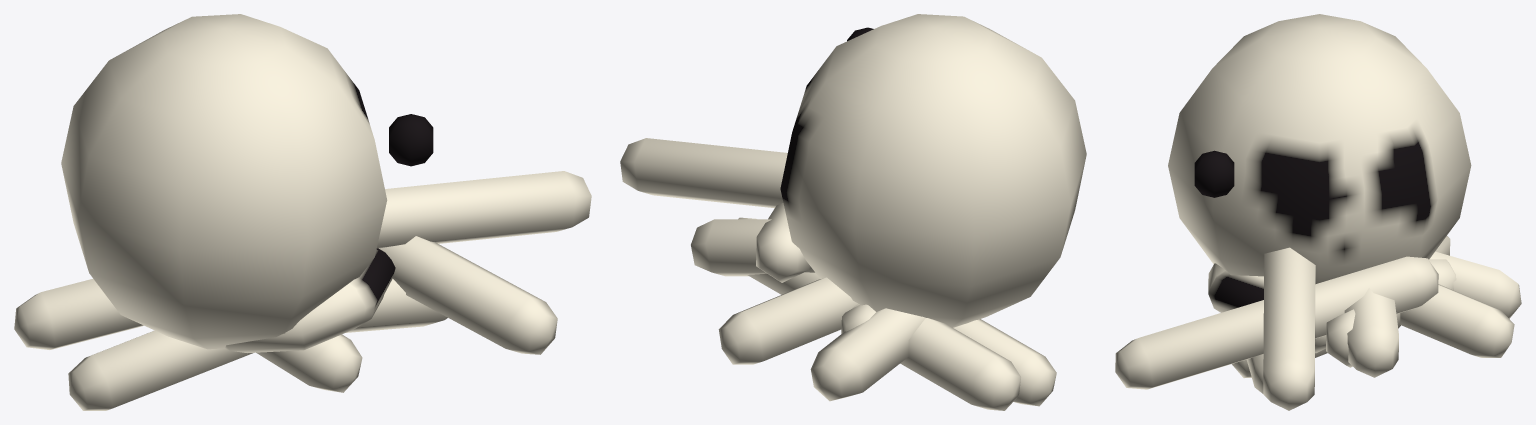
File: prop_bonepile2_c217.glb
3 views of the same model, side by side, from view 1: azimuth 30°, elevation 25°; view 2: azimuth 150°, elevation 25°; view 3: azimuth 270°, elevation 25° (orthographic). The views are drawn at different scales.
Parts seen in each view (by area): view 1: prop_bonepile2_c217; view 2: prop_bonepile2_c217; view 3: prop_bonepile2_c217.
Boxes of the visible parts, box(x1,y1,x2,y2) form: prop_bonepile2_c217: box(14, 14, 591, 410); prop_bonepile2_c217: box(620, 14, 1086, 410); prop_bonepile2_c217: box(1115, 14, 1521, 410).
Size of the model in its own units: 0.6136 by 0.433 by 0.4854.
Materials: 1 (1 with a texture image).
